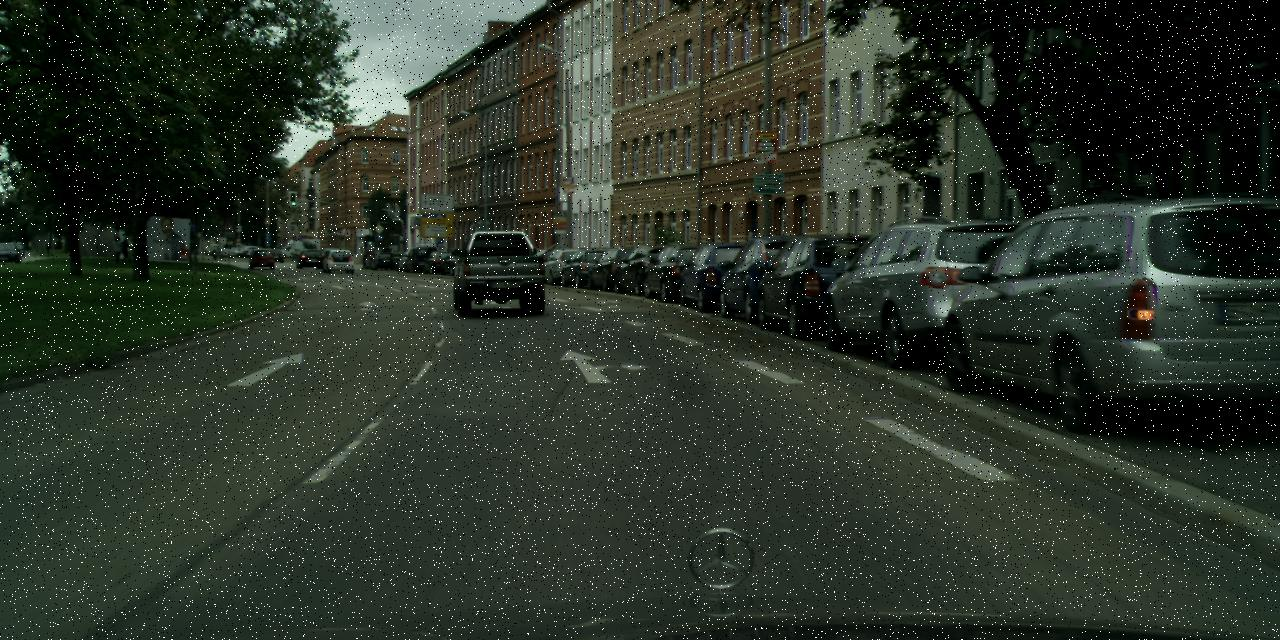ped: (112, 236, 124, 263), (120, 236, 130, 262)
